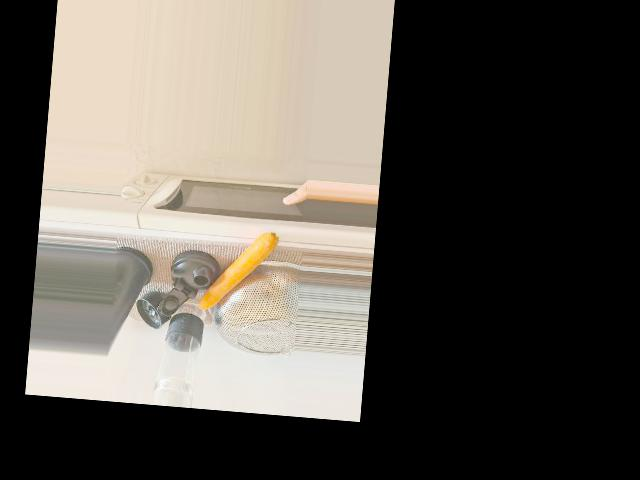carrot: (199, 226, 278, 314)
